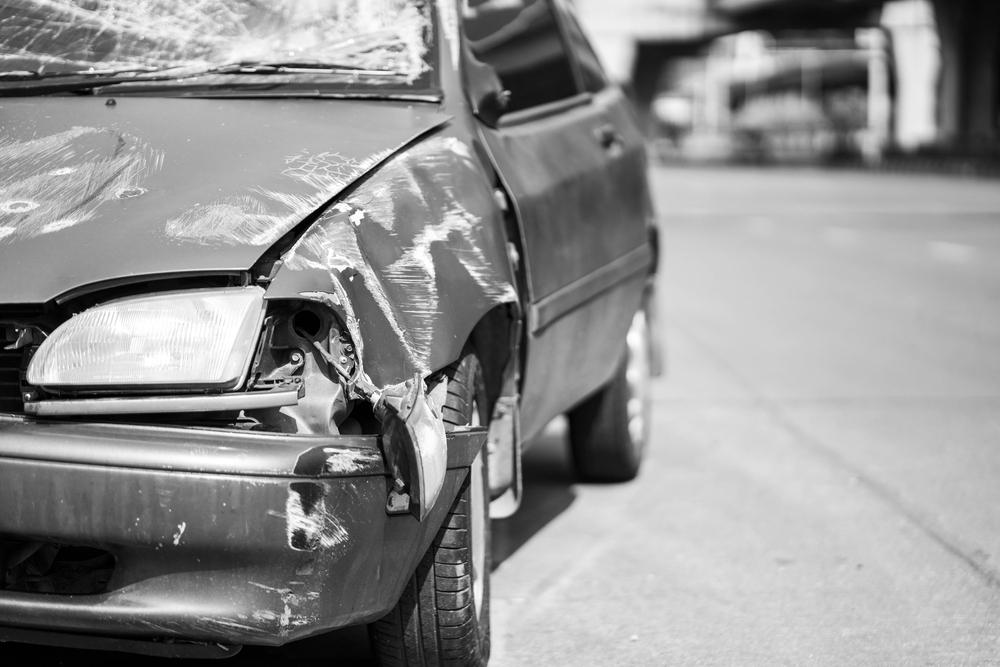glass shatter: (0, 0, 435, 90)
scratch: (283, 134, 518, 390), (211, 442, 380, 637), (153, 137, 400, 249), (0, 121, 157, 248)
